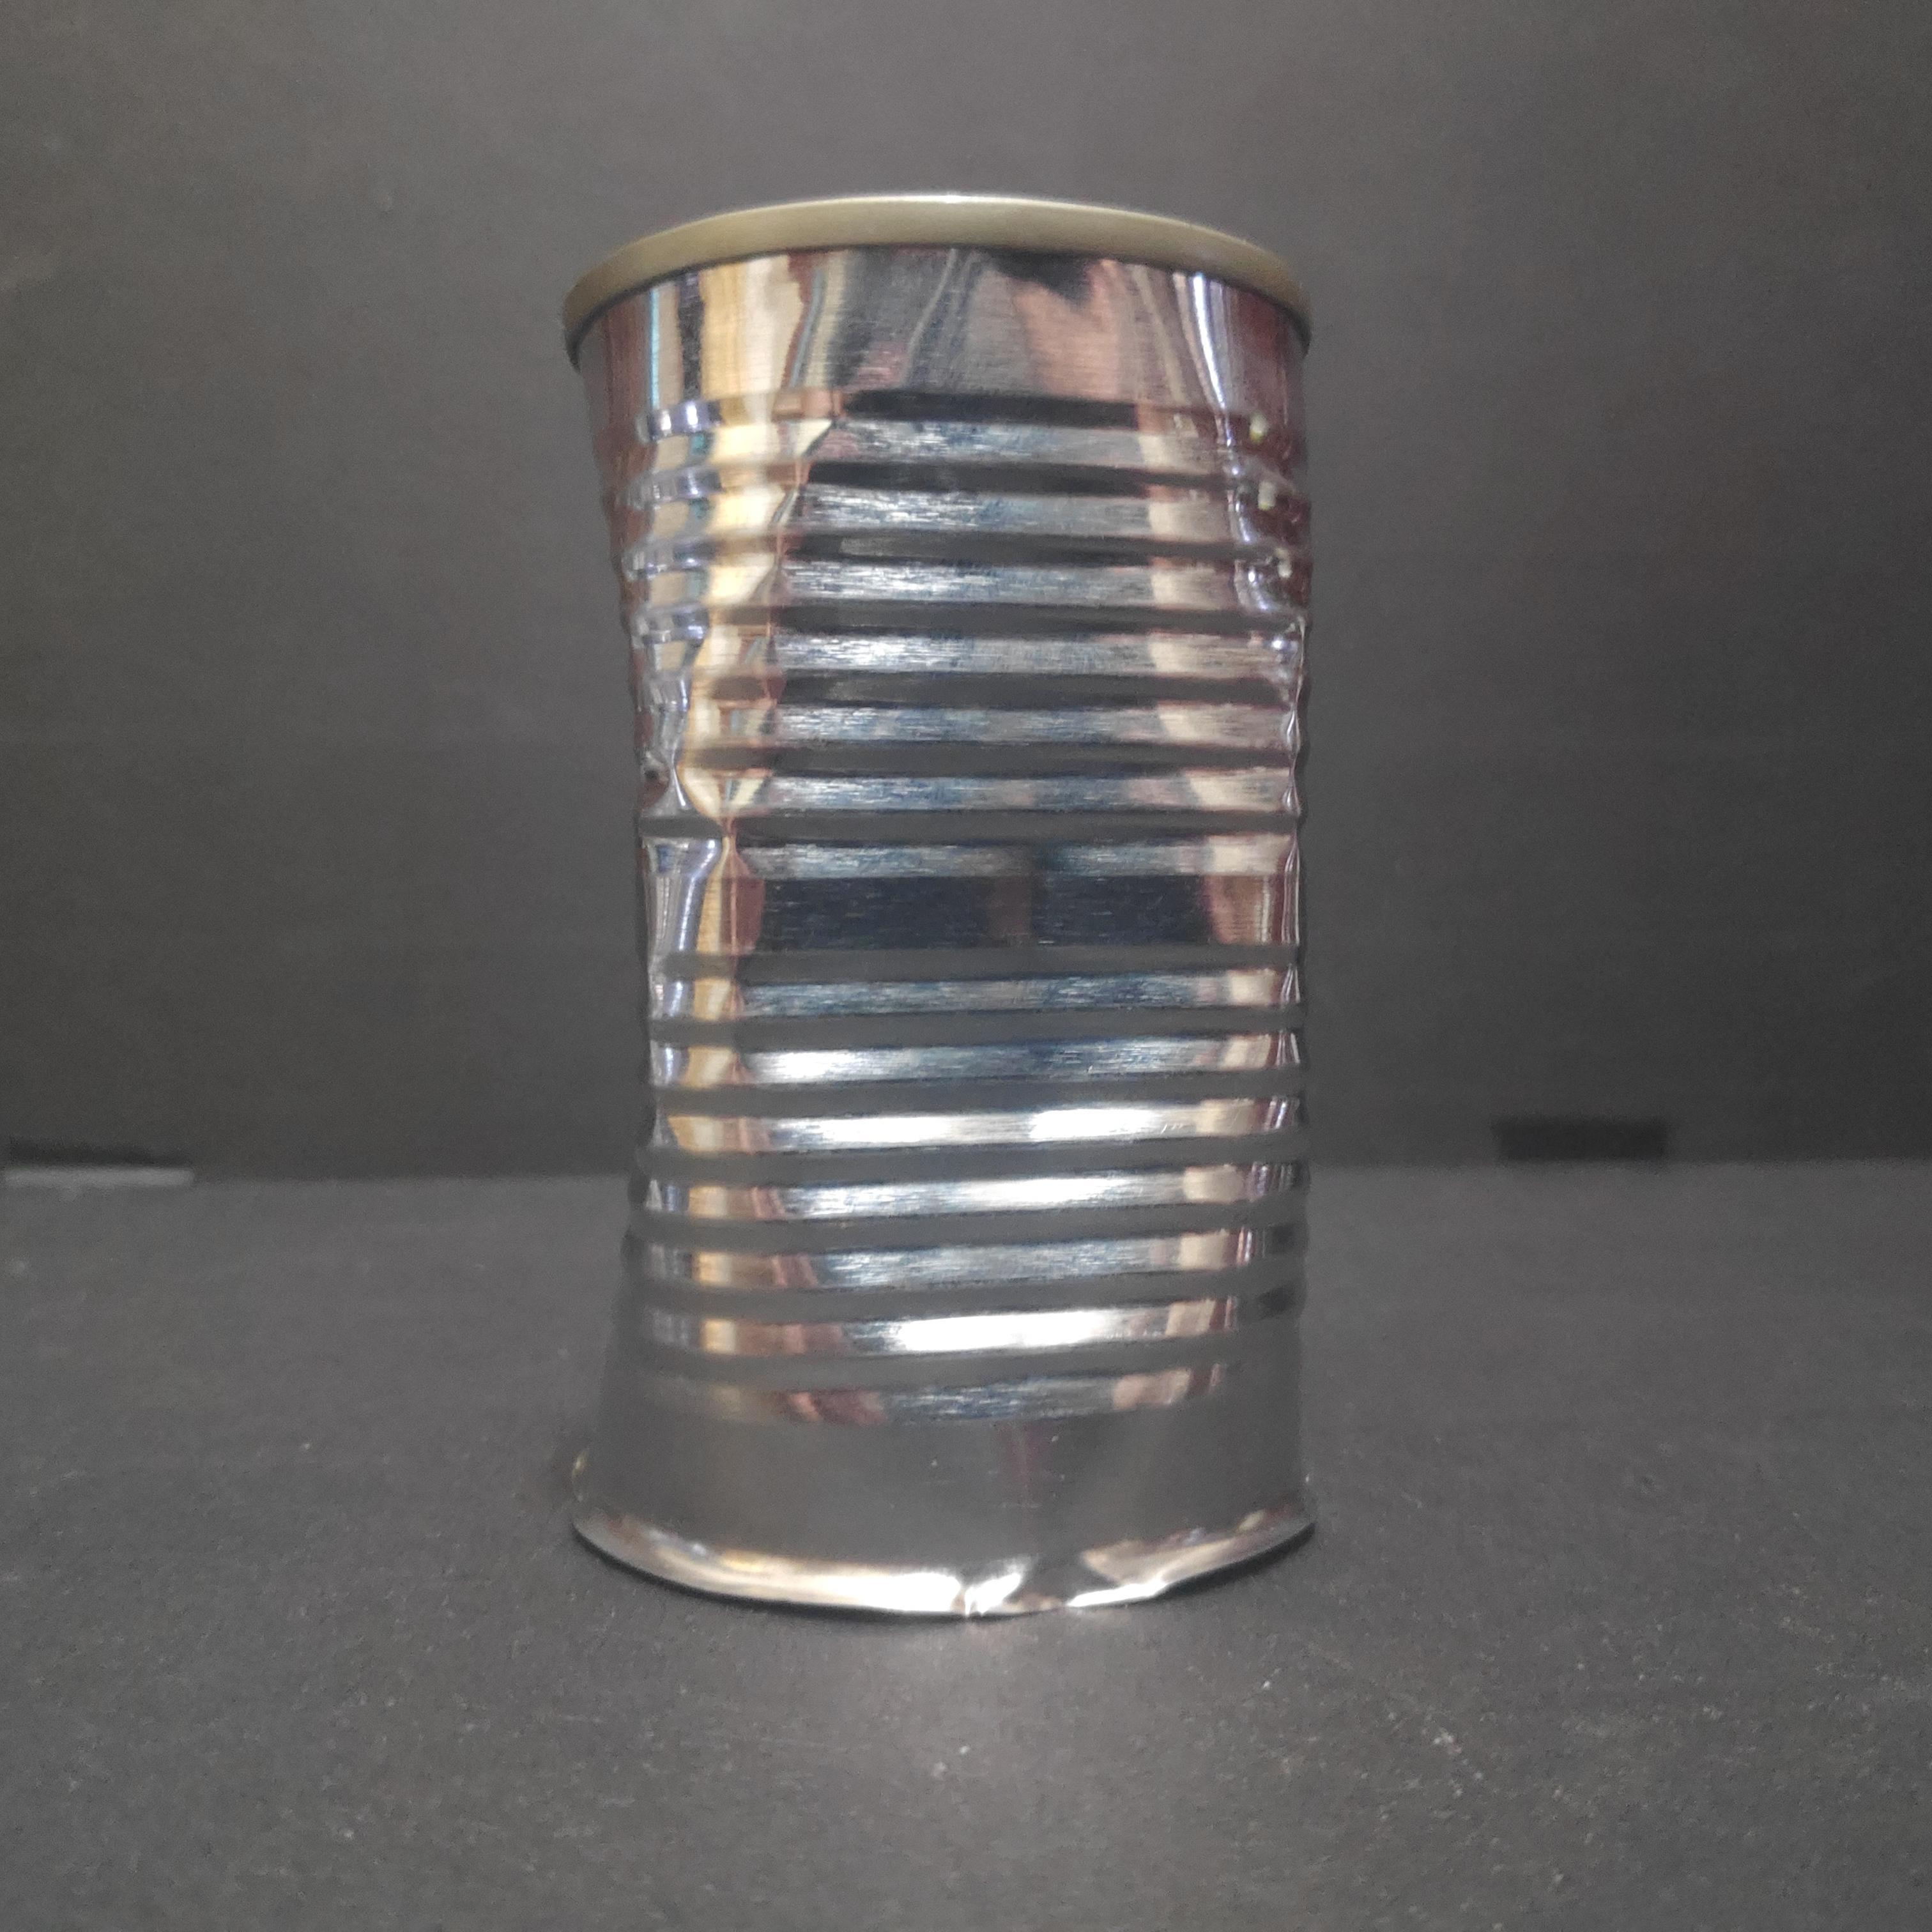Dented: (524, 188, 1367, 1639)
